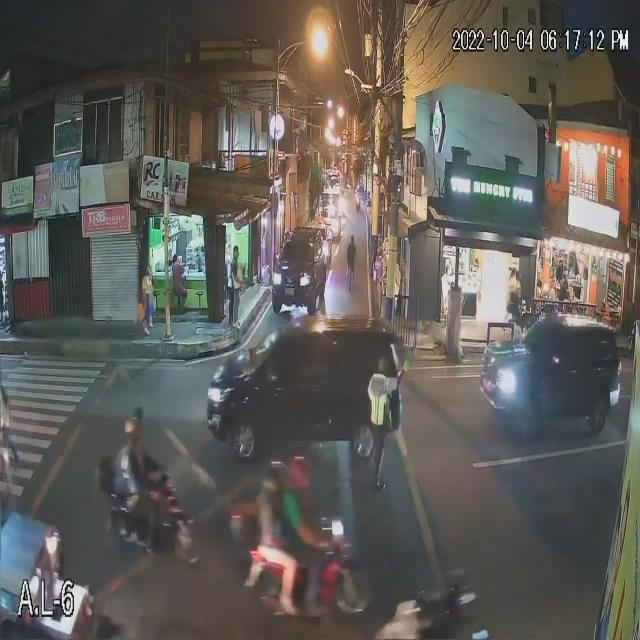helmet: (289, 460, 311, 482), (261, 466, 282, 488), (120, 419, 142, 435)
motorcycle: (98, 488, 204, 561), (247, 550, 356, 609)
rider: (258, 491, 276, 565), (126, 450, 145, 512), (293, 492, 308, 559)
